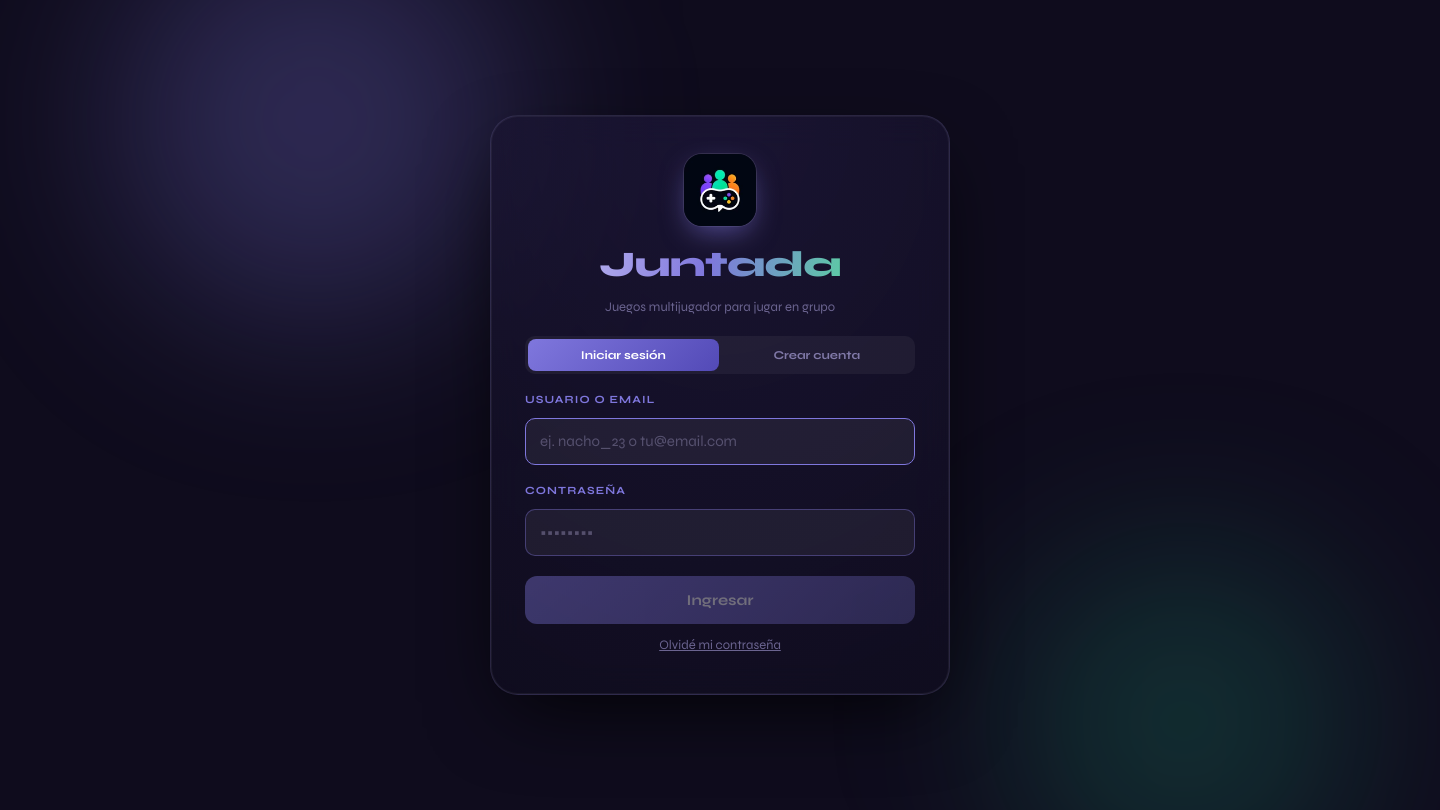
it: AuthScreen › login form shows the backend's invalid_credentials error inline
Expected: the button "Ingresar" is shown, [525,576,915,624]
In the field: (720, 442) [525,418,915,465], type "ana"
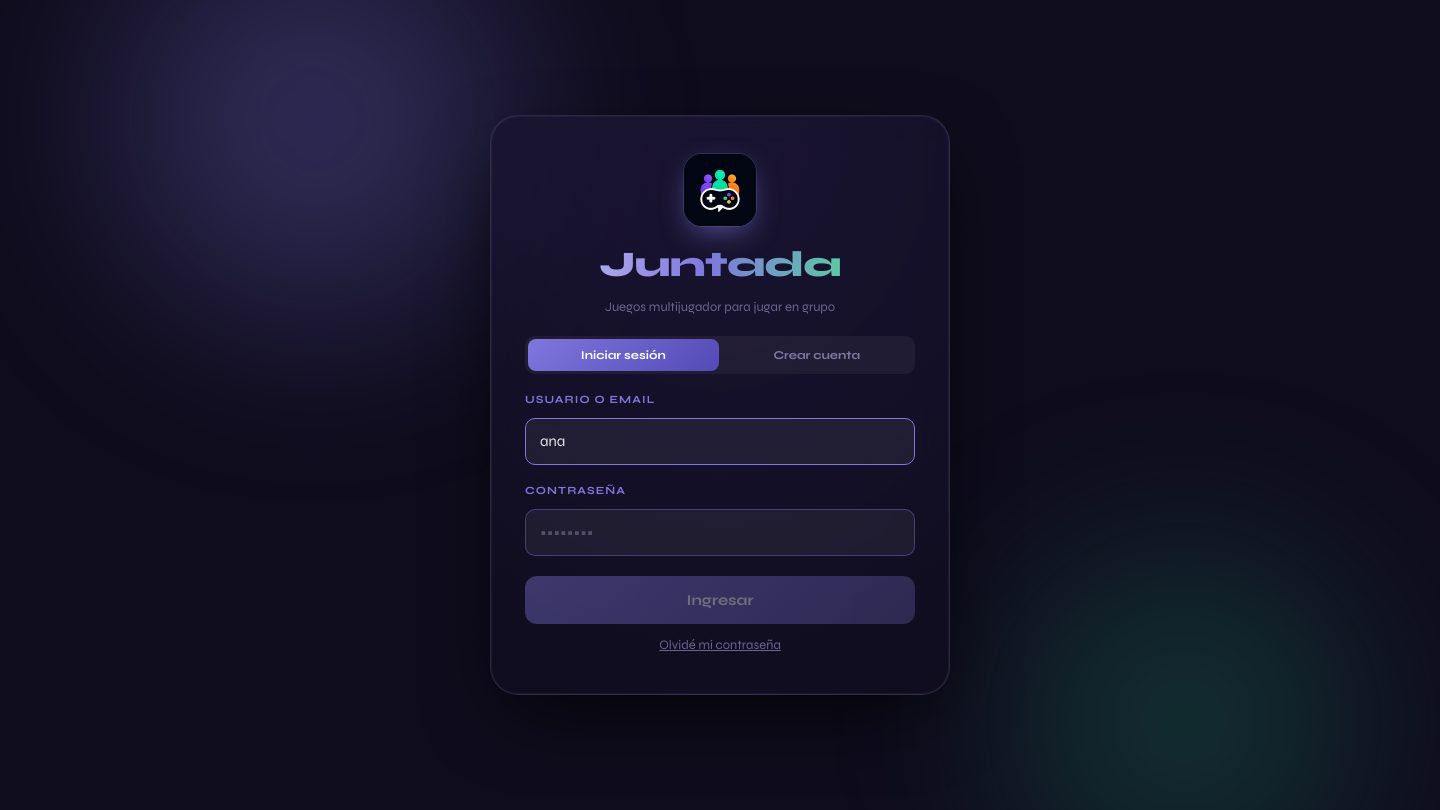
In the password field with placeholder "••••••••": (720, 533) [525,509,915,556], type "wrongpass"
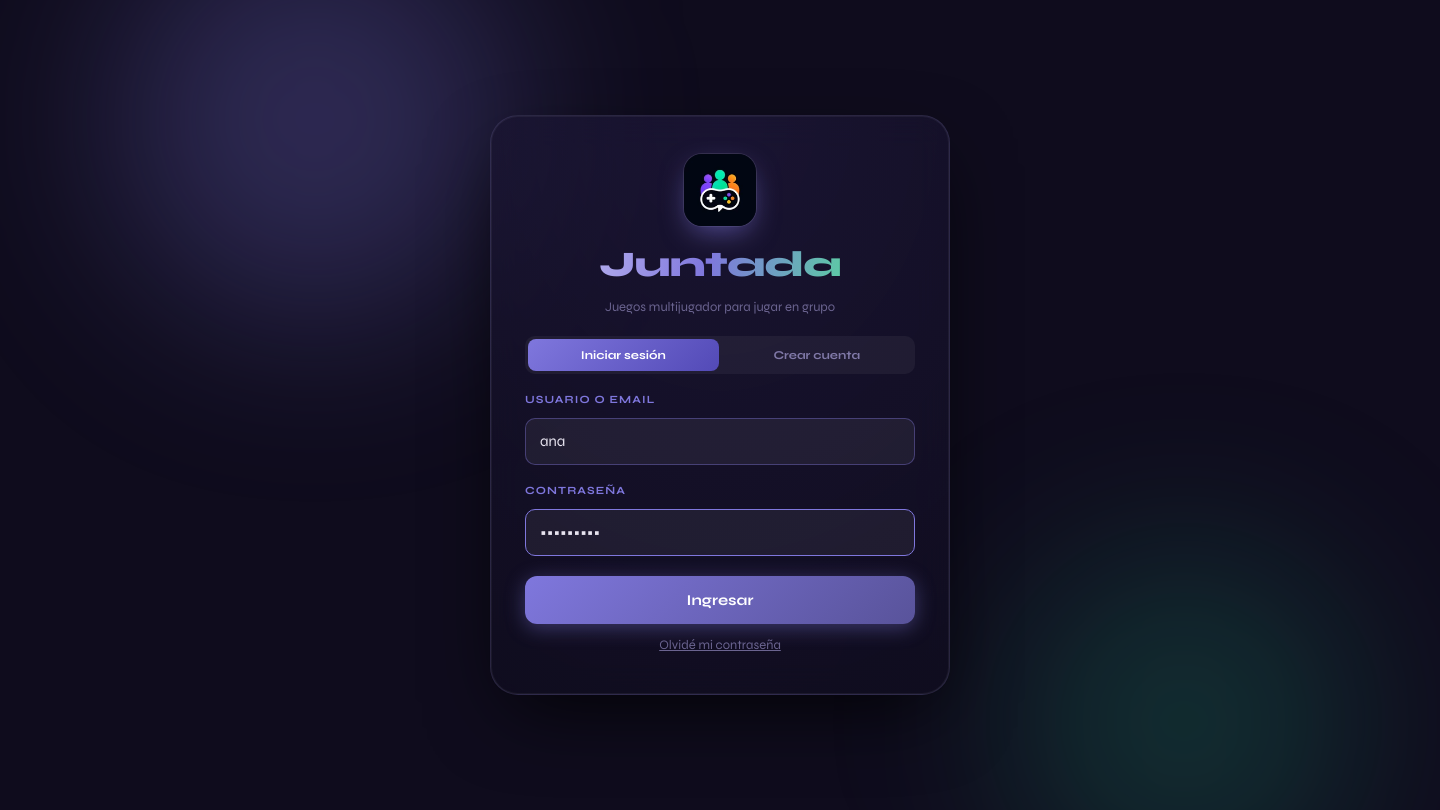
Click the button "Ingresar": click(720, 600) [525,576,915,624]
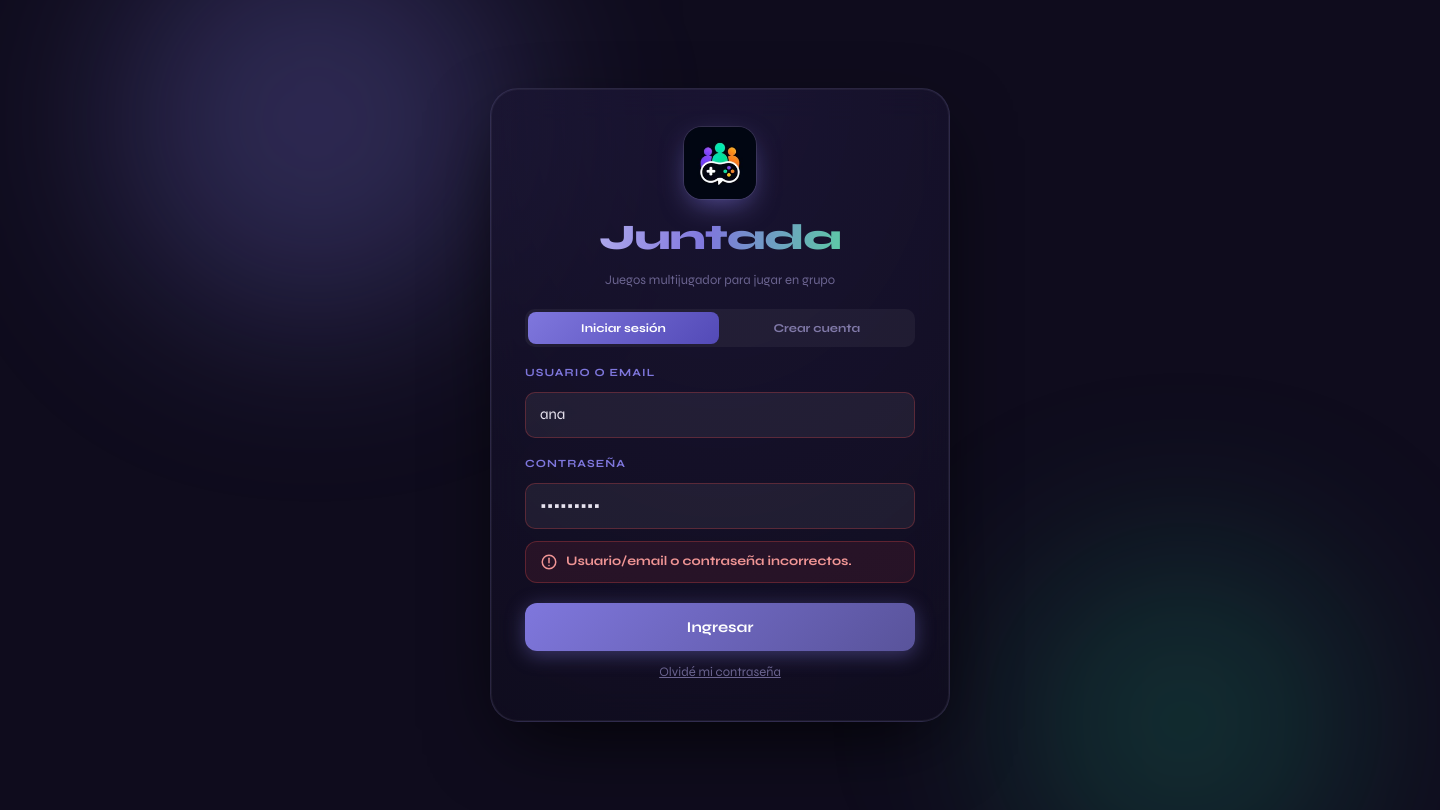
Expected: the text "Usuario/email o contraseña incorrectos." is shown, [566,552,852,572]
